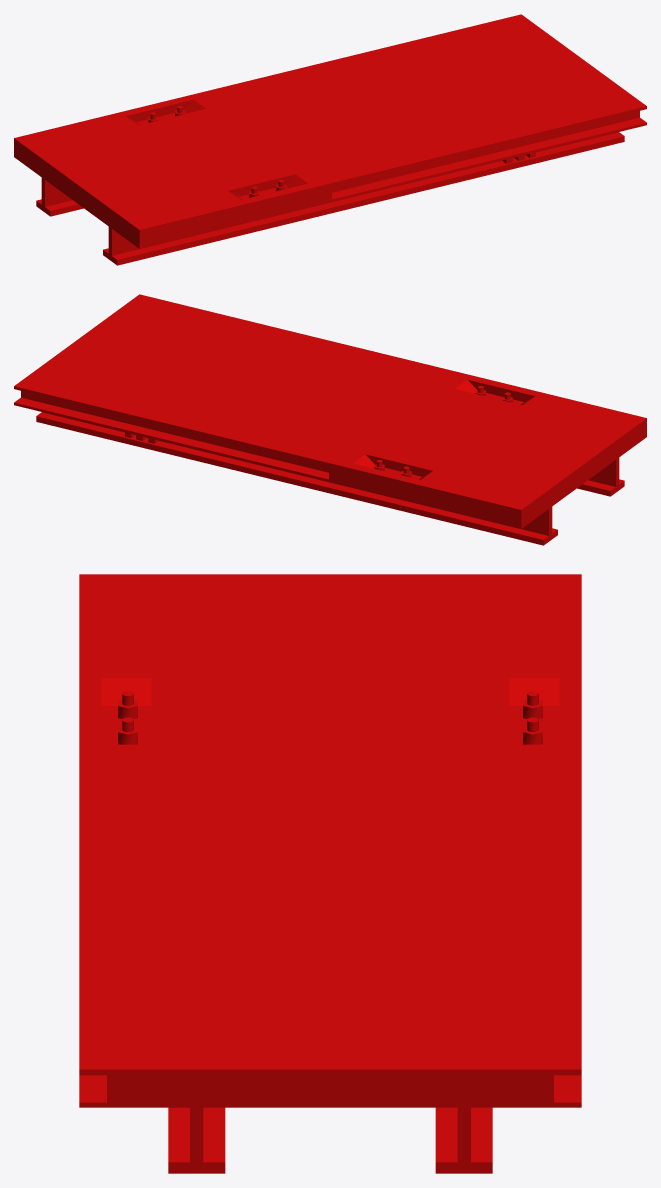
The picture shows the model from 3 angles, top to bottom: view 1: azimuth 30°, elevation 25°; view 2: azimuth 150°, elevation 25°; view 3: azimuth 270°, elevation 25°; orthographic projection. The views are drawn at different scales.
Parts seen in each view (by area): view 1: Mesh; view 2: Mesh; view 3: Mesh.
Part boxes in pixels (box(x1,y1,x2,y2)): Mesh: box(14, 14, 646, 265); Mesh: box(14, 294, 646, 545); Mesh: box(79, 574, 581, 1173).
Bounding box in the file's own units: 7 × 0.7155 × 3.
